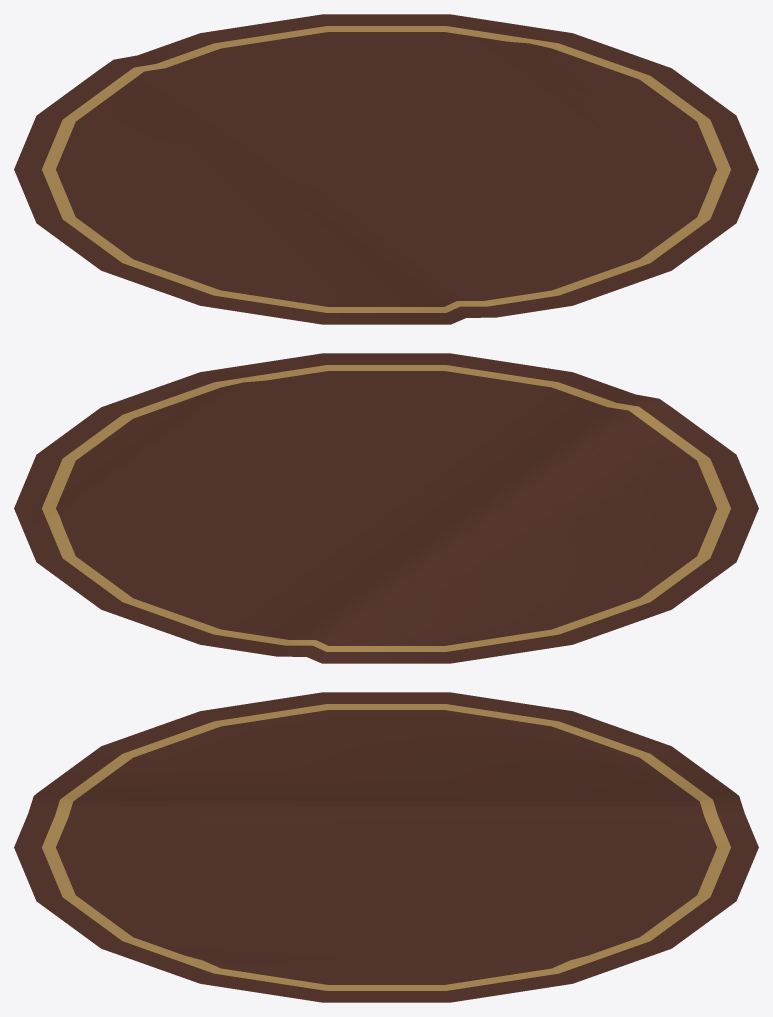
The model's file is Carpet_Round.glb.
3 renders of one model, top to bottom at view 1: azimuth 30°, elevation 25°; view 2: azimuth 150°, elevation 25°; view 3: azimuth 270°, elevation 25°, orthographic.
Visible parts, largest first — view 1: Carpet_Round; view 2: Carpet_Round; view 3: Carpet_Round.
Part boxes in pixels (x1=…): Carpet_Round: x1=14, y1=14, x2=758, y2=324; Carpet_Round: x1=14, y1=353, x2=758, y2=663; Carpet_Round: x1=14, y1=692, x2=758, y2=1002.
Size of the model in its own units: 1.22 by 0.00769 by 1.24.
Materials: 2 (2 with a texture image).
